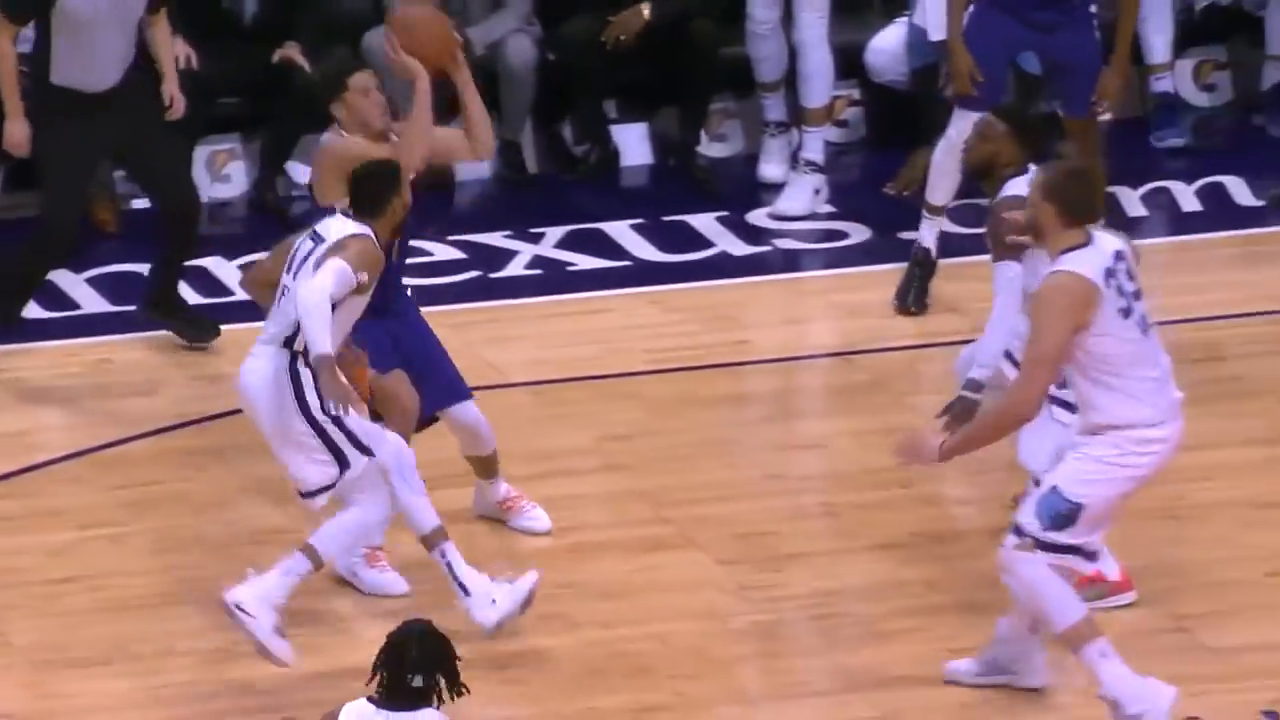ball: (371, 1, 469, 75)
